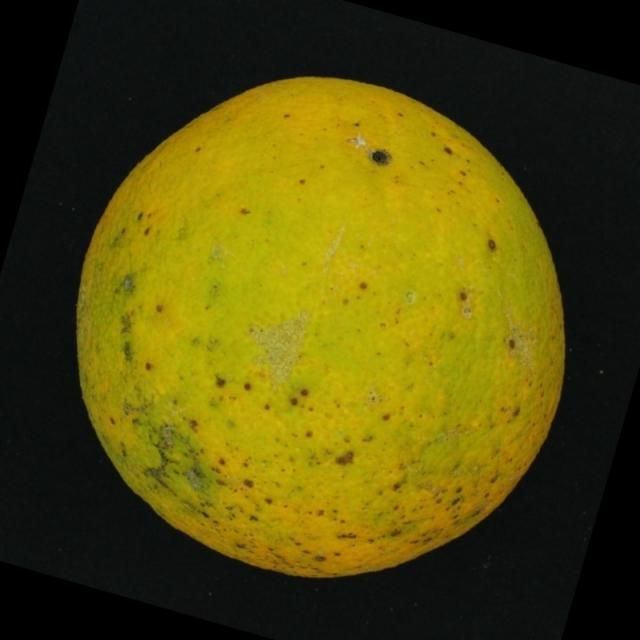grenning: (64, 62, 578, 589)
